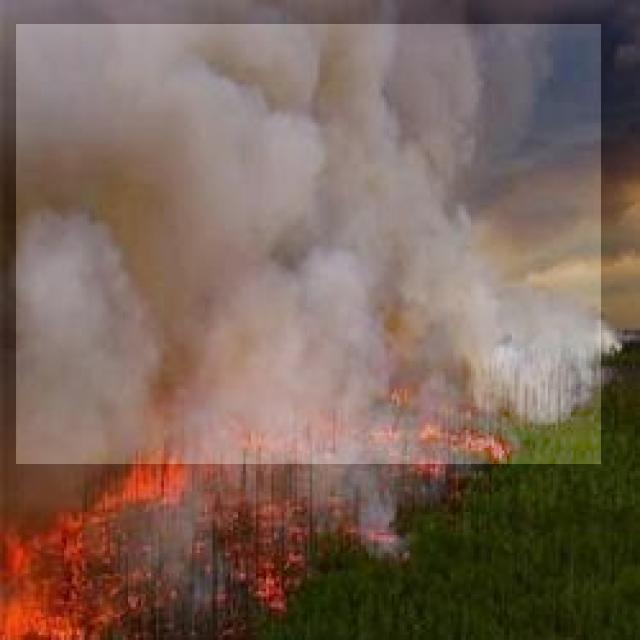Fire: (24, 412, 380, 637)
Smoke: (16, 24, 601, 464)
